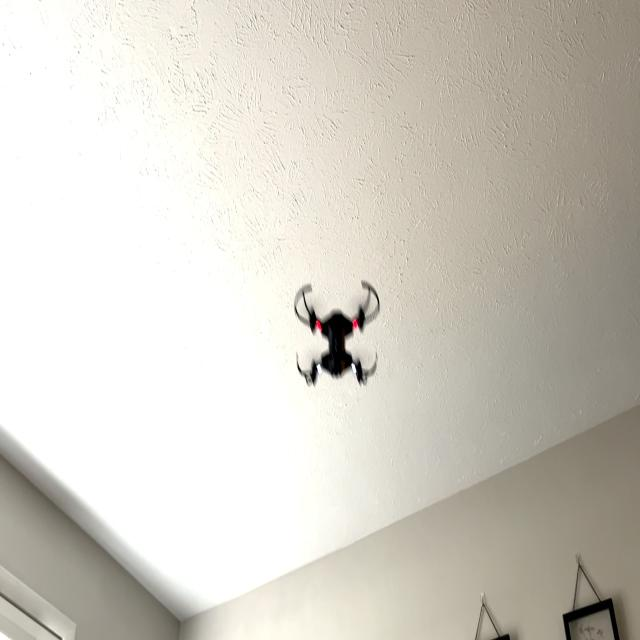drone: (284, 268, 391, 399)
